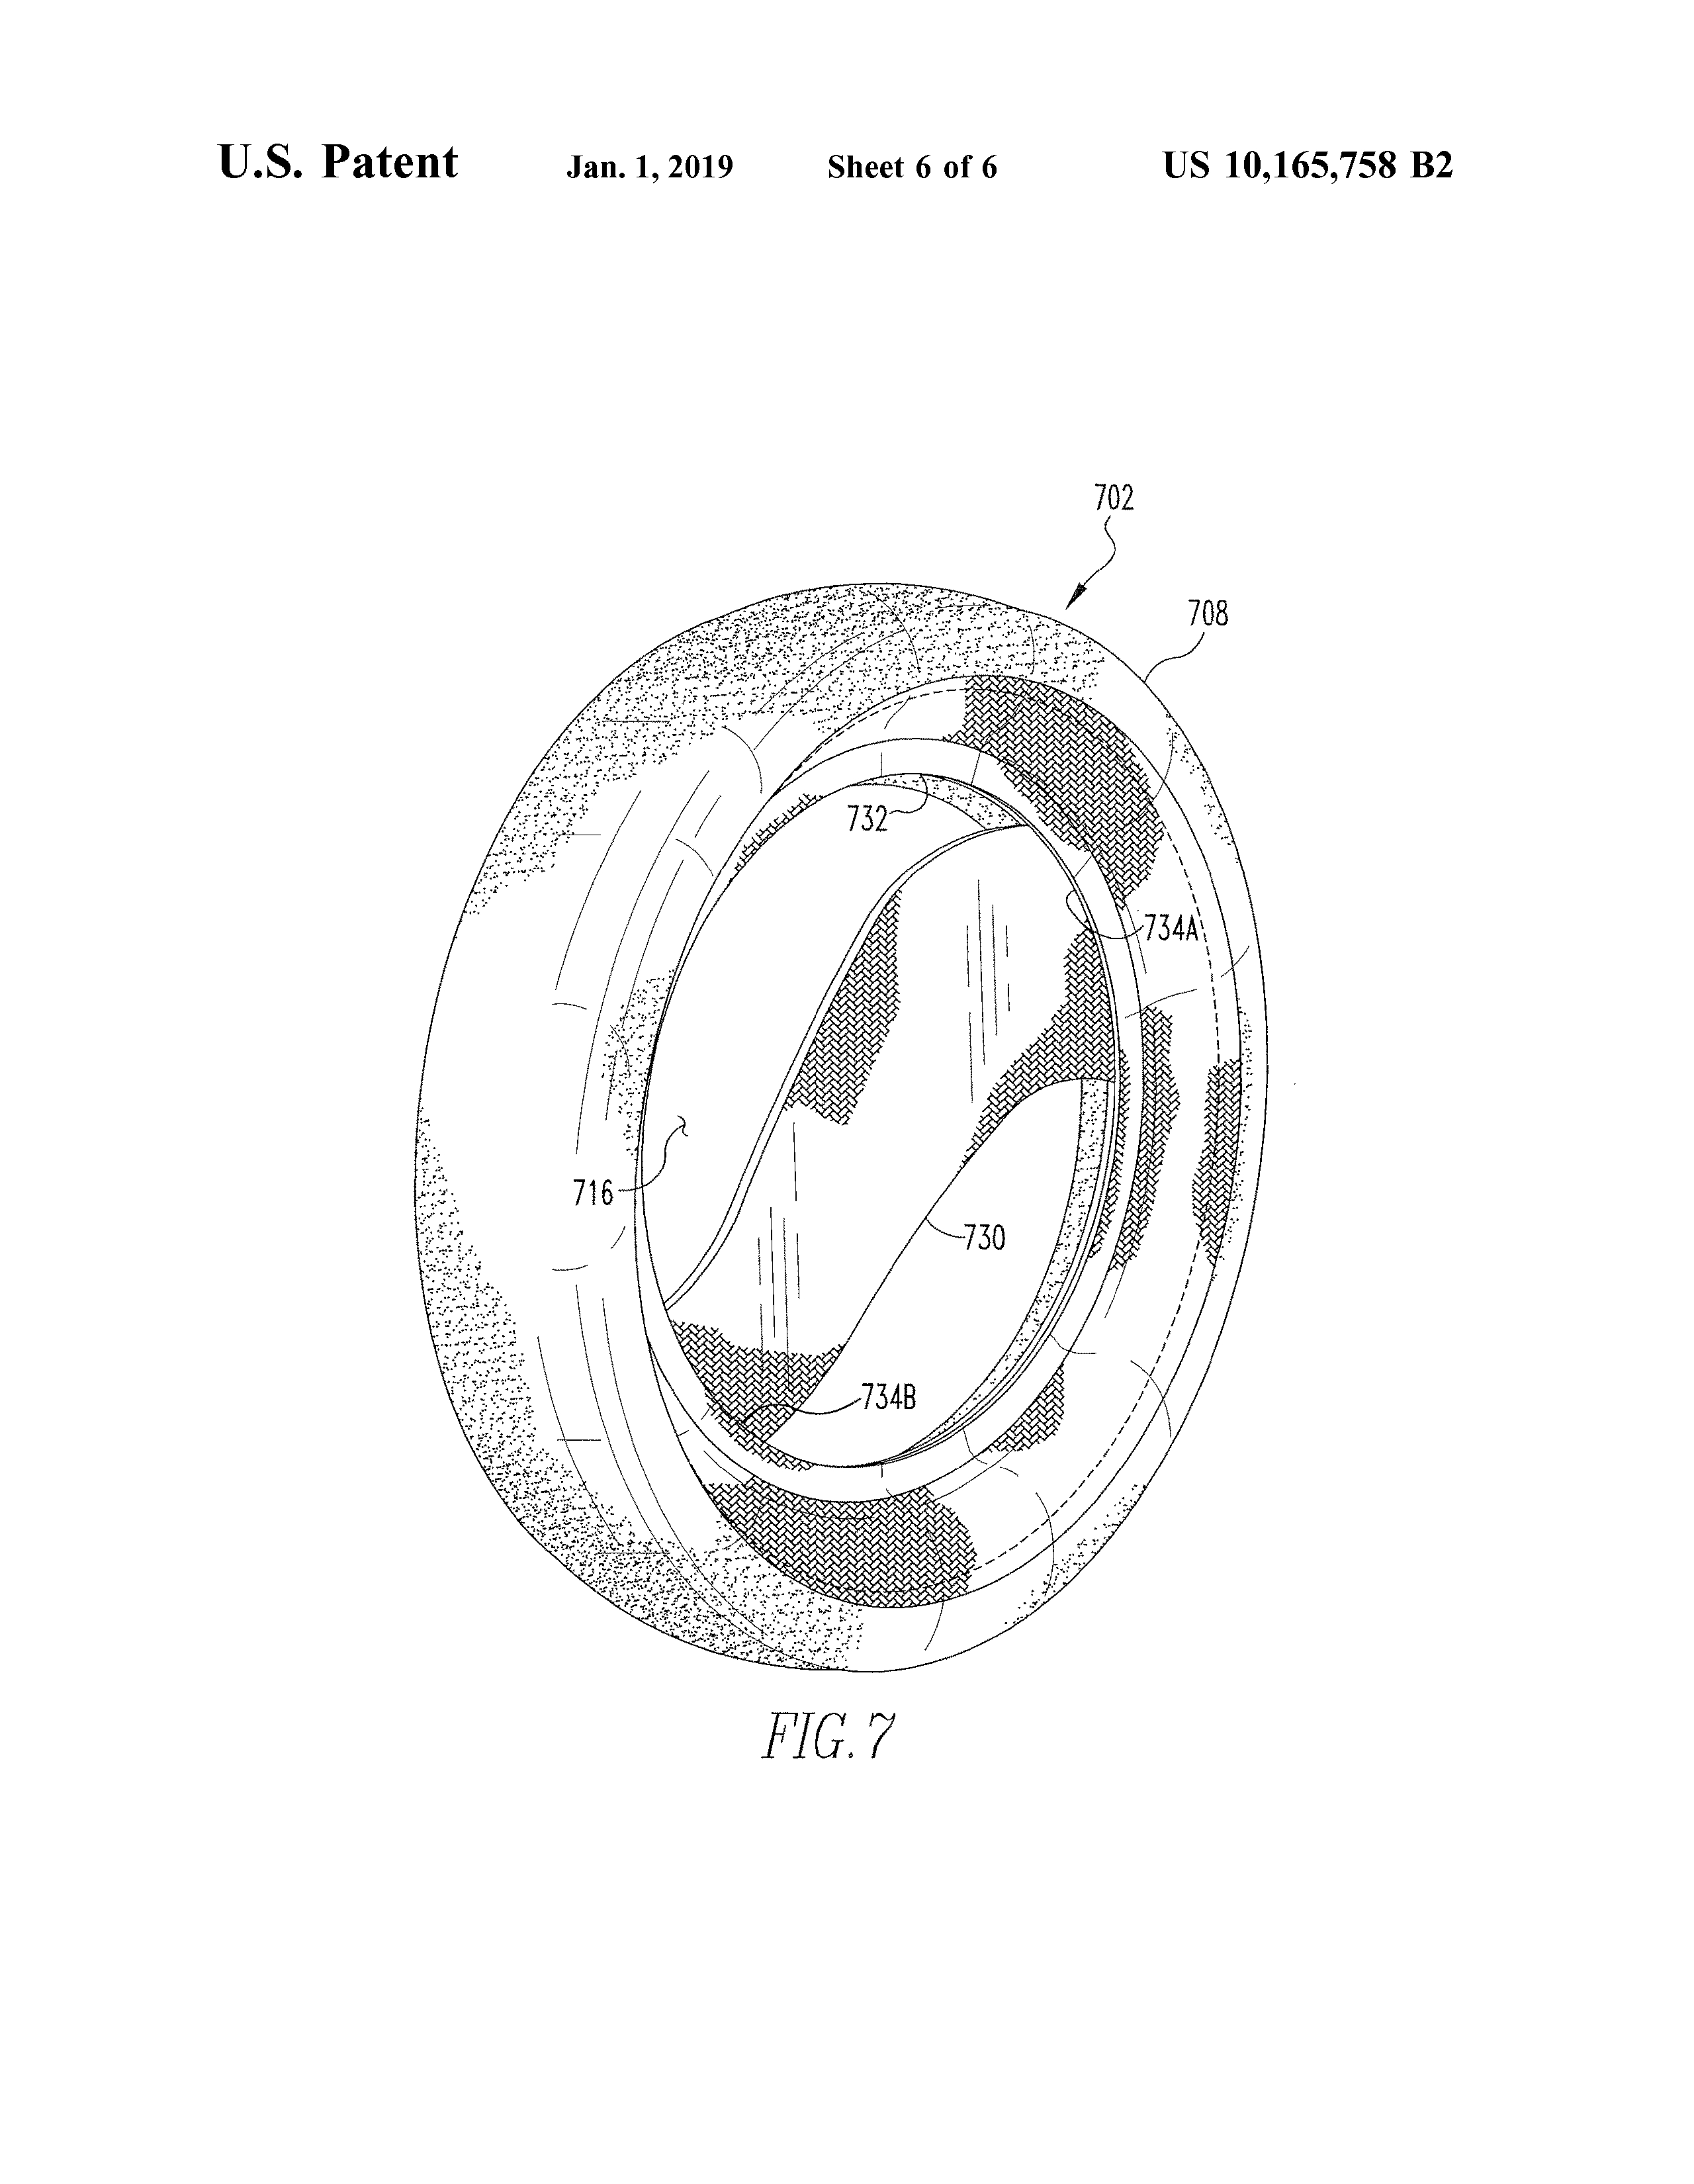patent image: (374, 433, 1449, 1856)
